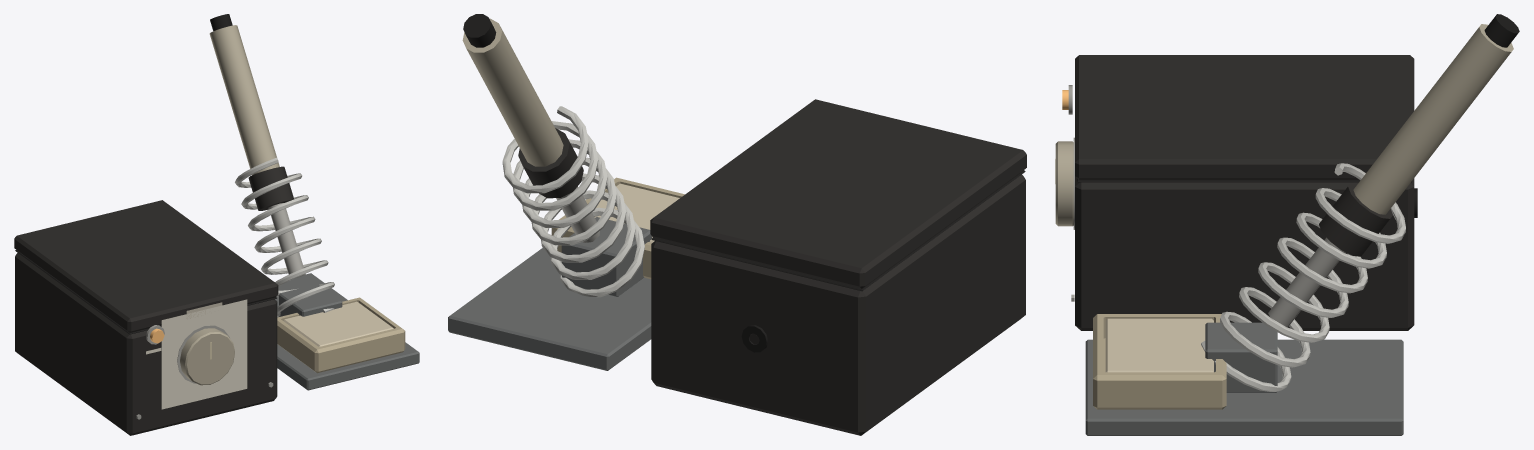
The model's file is soldering-station-944f6ddb3210.glb.
3 renders of one model, left to right at view 1: azimuth 30°, elevation 25°; view 2: azimuth 150°, elevation 25°; view 3: azimuth 270°, elevation 25°, orthographic. The views are drawn at different scales.
Visible parts, largest first — view 1: plastic-dark, plastic-light, decal-ink, metal, enamel-beige, chrome, paper, brushed, rubber; view 2: plastic-dark, metal, chrome, plastic-light, rubber, paper, enamel-beige, brushed; view 3: plastic-dark, metal, plastic-light, chrome, enamel-beige, paper, brushed, rubber.
Part boxes in pixels (x1,y1,x2,y2): plastic-dark: [14, 166, 293, 435]; plastic-light: [180, 25, 279, 385]; decal-ink: [146, 299, 247, 409]; metal: [275, 273, 419, 390]; enamel-beige: [277, 297, 405, 373]; chrome: [235, 157, 334, 317]; paper: [283, 301, 393, 346]; brushed: [136, 203, 305, 419]; rubber: [15, 14, 276, 334]; plastic-dark: [518, 99, 1026, 435]; metal: [448, 217, 652, 370]; chrome: [502, 106, 644, 297]; plastic-light: [462, 18, 563, 166]; rubber: [463, 14, 1025, 352]; paper: [594, 183, 679, 242]; enamel-beige: [551, 177, 684, 279]; brushed: [556, 186, 599, 242]; plastic-dark: [1075, 55, 1414, 330]; metal: [1085, 322, 1403, 435]; plastic-light: [1055, 24, 1513, 226]; chrome: [1201, 163, 1405, 391]; enamel-beige: [1093, 314, 1226, 409]; paper: [1105, 318, 1213, 372]; brushed: [1068, 85, 1345, 327]; rubber: [1077, 14, 1519, 217].
Bounding box in the file's own units: 0.235 × 0.1979 × 0.219.
